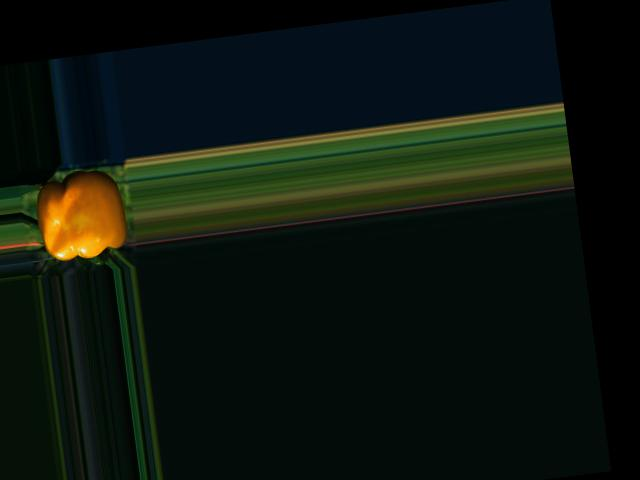bell_pepper: (25, 164, 136, 273)
